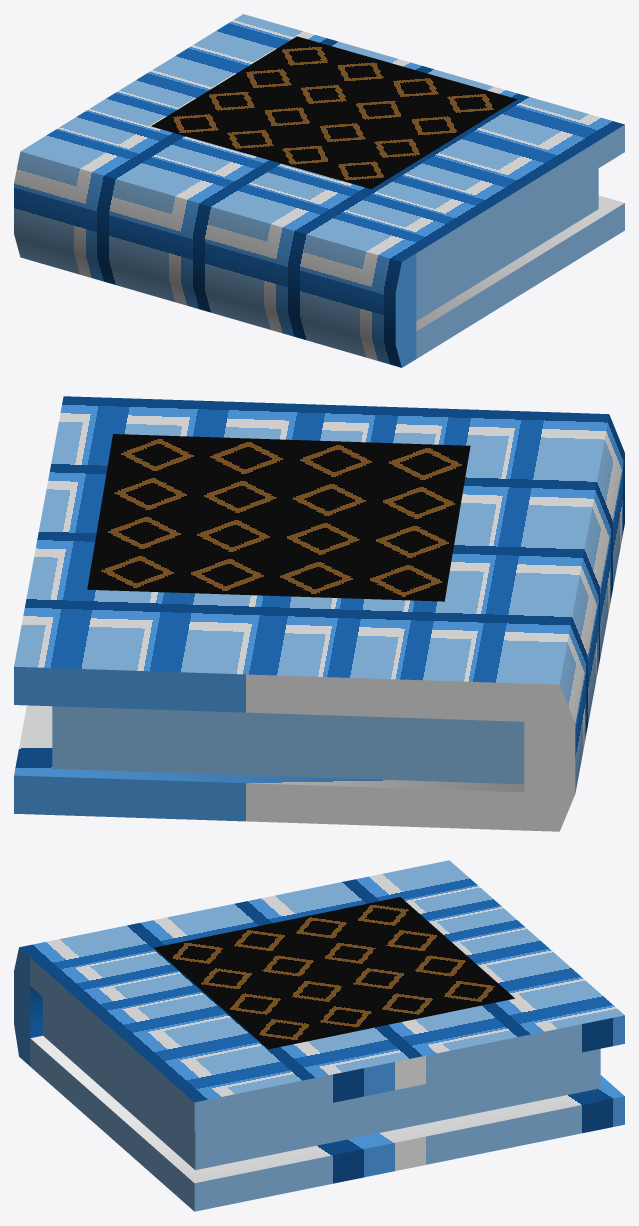
File: 5347so_book_j1.gltf
The picture shows the model from 3 angles, top to bottom: view 1: azimuth 30°, elevation 25°; view 2: azimuth 150°, elevation 25°; view 3: azimuth 270°, elevation 25°; orthographic projection. The views are drawn at different scales.
Parts seen in each view (by area): view 1: 5347so_book_j1; view 2: 5347so_book_j1; view 3: 5347so_book_j1.
Part boxes in pixels (x1,y1,x2,y2): 5347so_book_j1: [14, 14, 624, 367]; 5347so_book_j1: [14, 396, 624, 831]; 5347so_book_j1: [14, 860, 624, 1211].
Bounding box in the file's own units: 0.6226 × 0.1487 × 0.6519.
2 materials, 2 textured.
